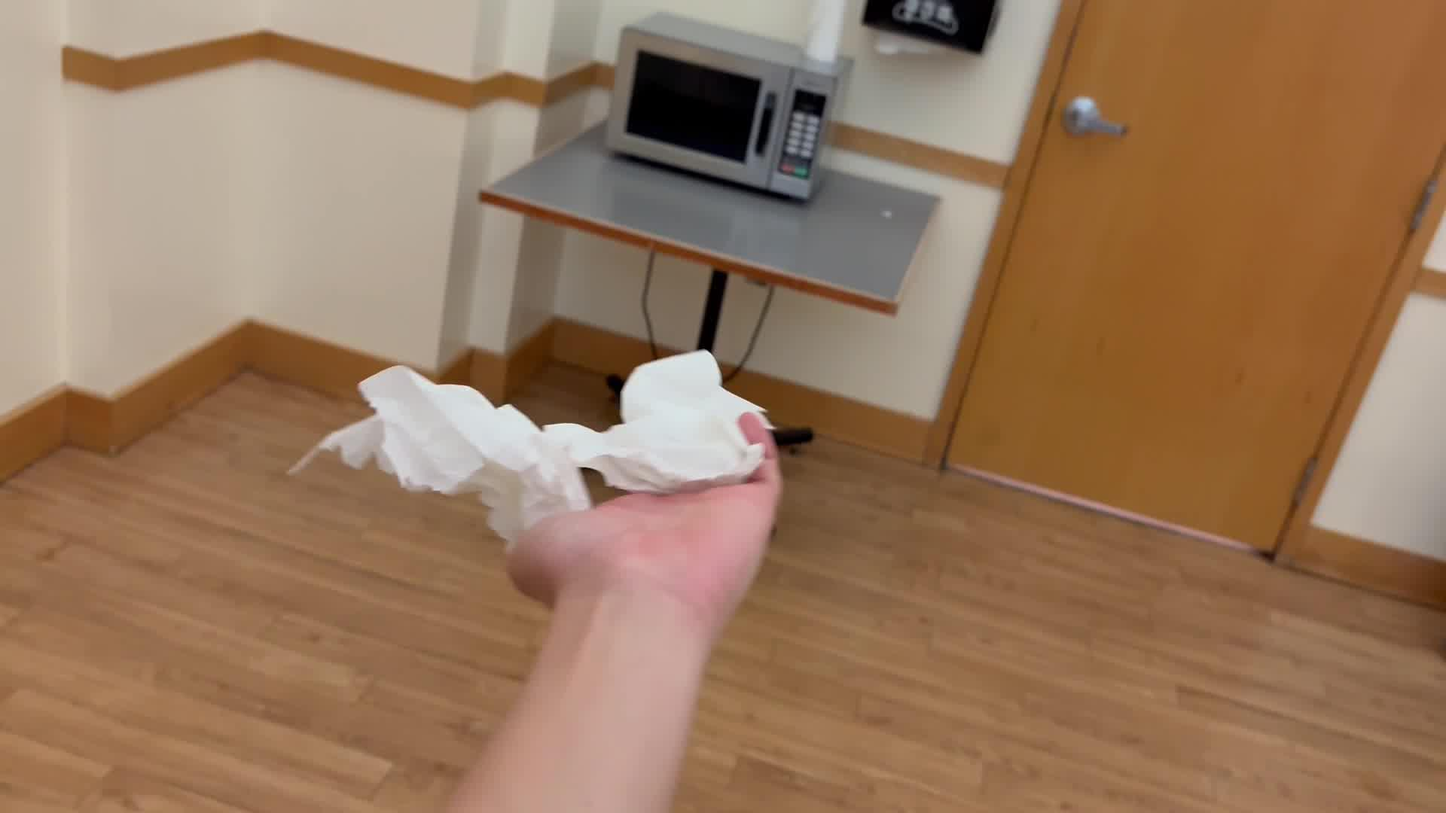napkin: (294, 343, 780, 537)
